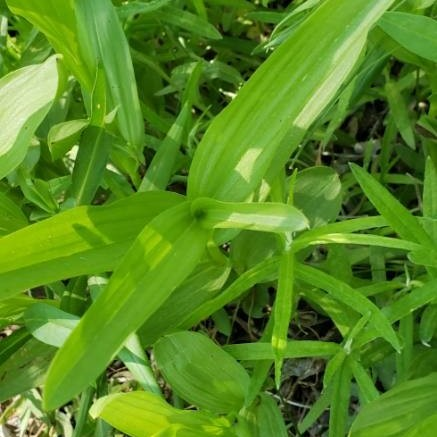obstacle: (39, 43, 402, 417)
